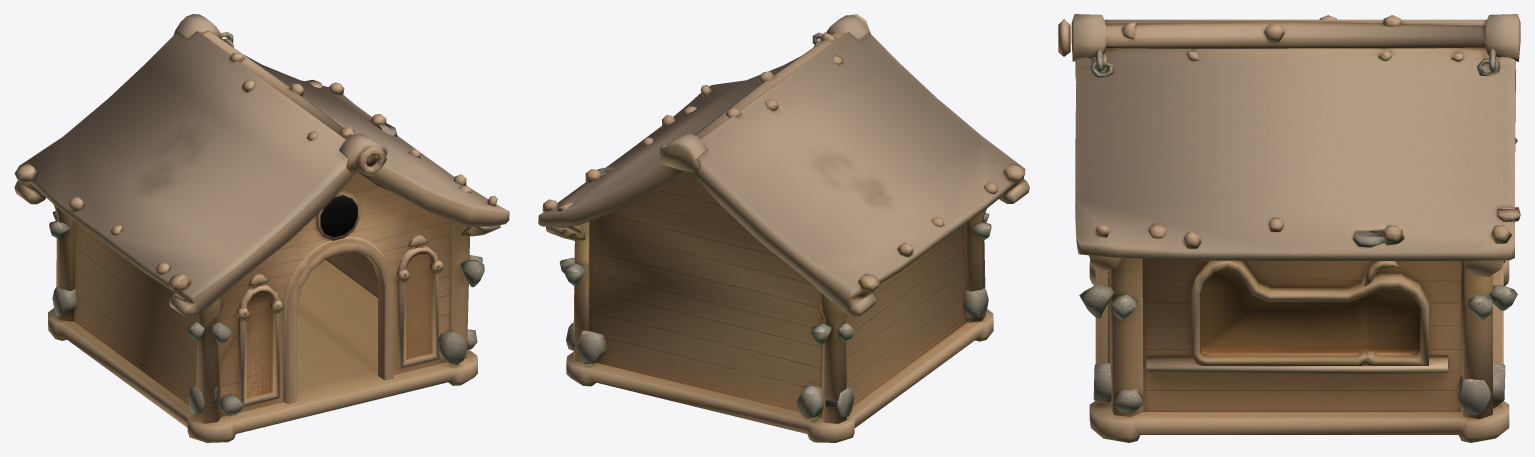
Rendered from luxurydoghouse.glb.
The picture shows the model from 3 angles, left to right: view 1: azimuth 30°, elevation 25°; view 2: azimuth 150°, elevation 25°; view 3: azimuth 270°, elevation 25°; orthographic projection. The views are drawn at different scales.
Visible parts, largest first — view 1: tripo_node_6ac8e378-9d2e-414f-82a2-215ecca8d827; view 2: tripo_node_6ac8e378-9d2e-414f-82a2-215ecca8d827; view 3: tripo_node_6ac8e378-9d2e-414f-82a2-215ecca8d827.
Part boxes in pixels (left/top/right/bottom): tripo_node_6ac8e378-9d2e-414f-82a2-215ecca8d827: left=14, top=14, right=509, bottom=442; tripo_node_6ac8e378-9d2e-414f-82a2-215ecca8d827: left=538, top=14, right=1029, bottom=442; tripo_node_6ac8e378-9d2e-414f-82a2-215ecca8d827: left=1058, top=14, right=1520, bottom=442.
Size of the model in its own units: 1.15 by 0.9 by 1.08.
1 material, 1 textured.
